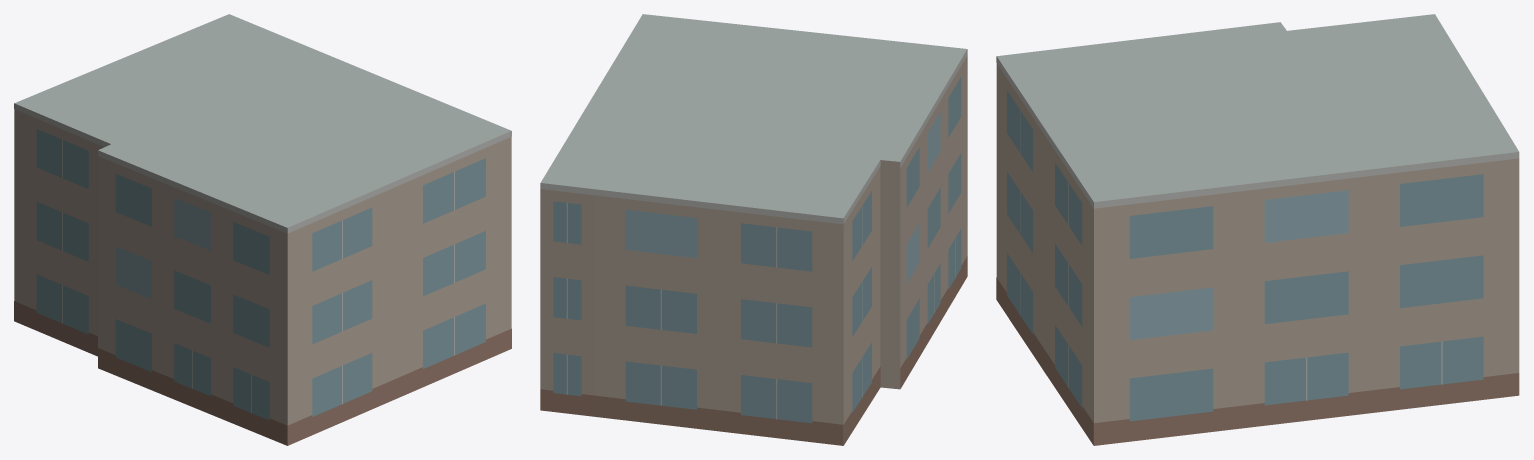
Rendered from survey-upis-32565205.glb.
3 views of the same model, side by side, from view 1: azimuth 30°, elevation 25°; view 2: azimuth 150°, elevation 25°; view 3: azimuth 270°, elevation 25° (orthographic). The views are drawn at different scales.
Parts seen in each view (by area): view 1: survey-upis-32565205.tmp; view 2: survey-upis-32565205.tmp; view 3: survey-upis-32565205.tmp.
Part boxes in pixels (x1,y1,x2,y2): survey-upis-32565205.tmp: (14,14,511,445); survey-upis-32565205.tmp: (540,14,967,445); survey-upis-32565205.tmp: (996,14,1519,445).
Size of the model in its own units: 15.16 by 9.15 by 17.8.
